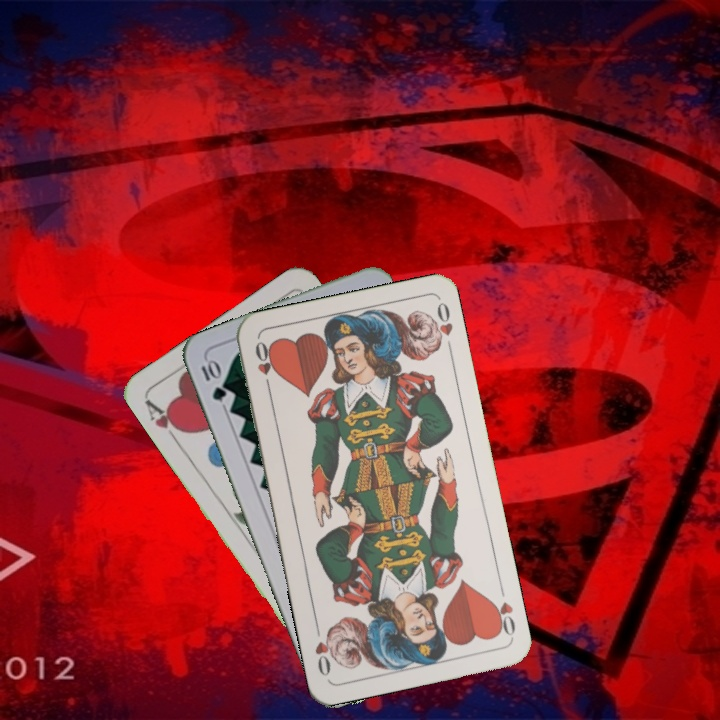G10: (197, 355, 229, 404)
HA: (141, 395, 188, 447)
HO: (251, 337, 275, 395), (487, 596, 518, 640)
